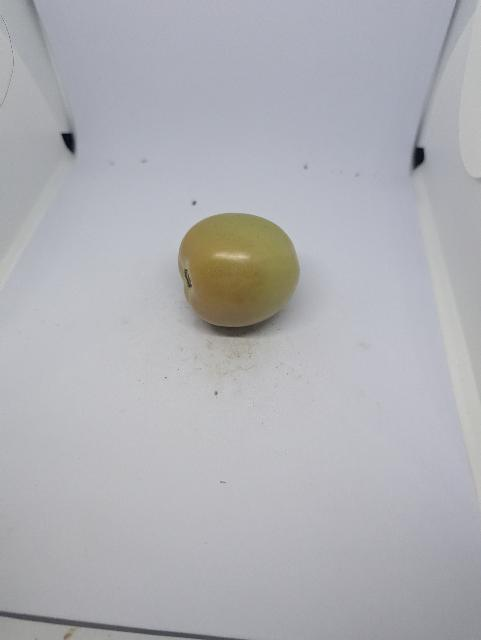breaker: (177, 209, 302, 337)
